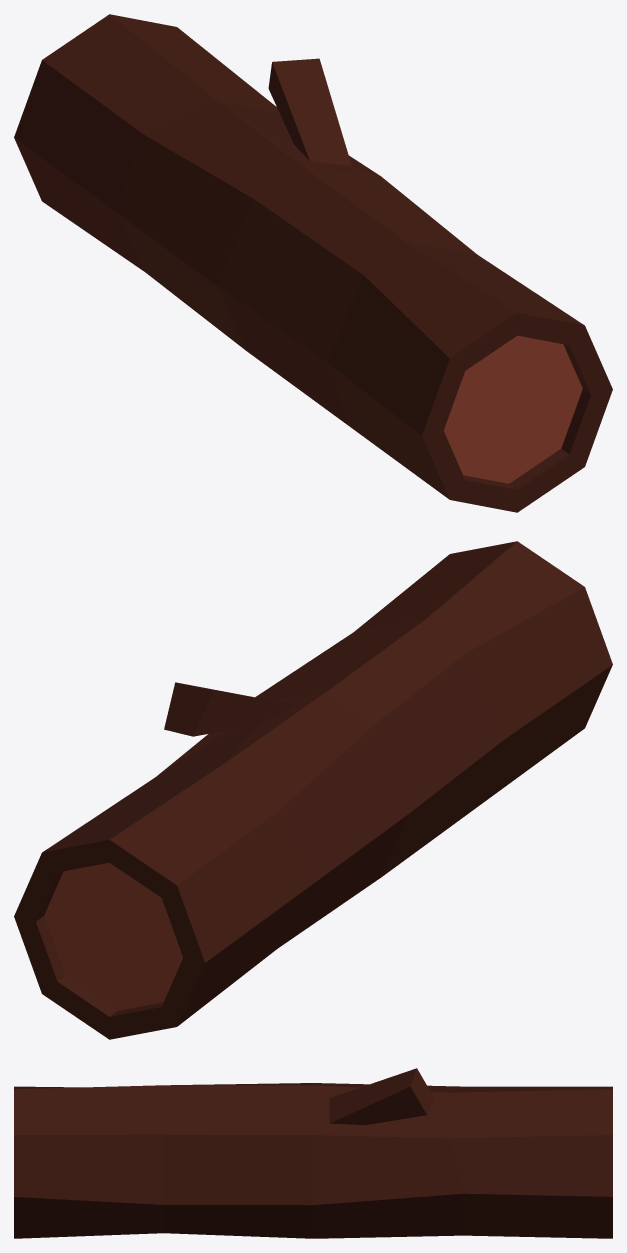
File: log_1b.fbx
3 views of the same model, one above another, from view 1: azimuth 30°, elevation 25°; view 2: azimuth 150°, elevation 25°; view 3: azimuth 270°, elevation 25° (orthographic). The views are drawn at different scales.
Parts seen in each view (by area): view 1: log_1b; view 2: log_1b; view 3: log_1b.
Part boxes in pixels (<box>): log_1b: <box>14,14,612,512</box>; log_1b: <box>14,541,612,1039</box>; log_1b: <box>14,1068,612,1238</box>.
Size of the model in its own units: 53.77 by 64.6 by 197.
